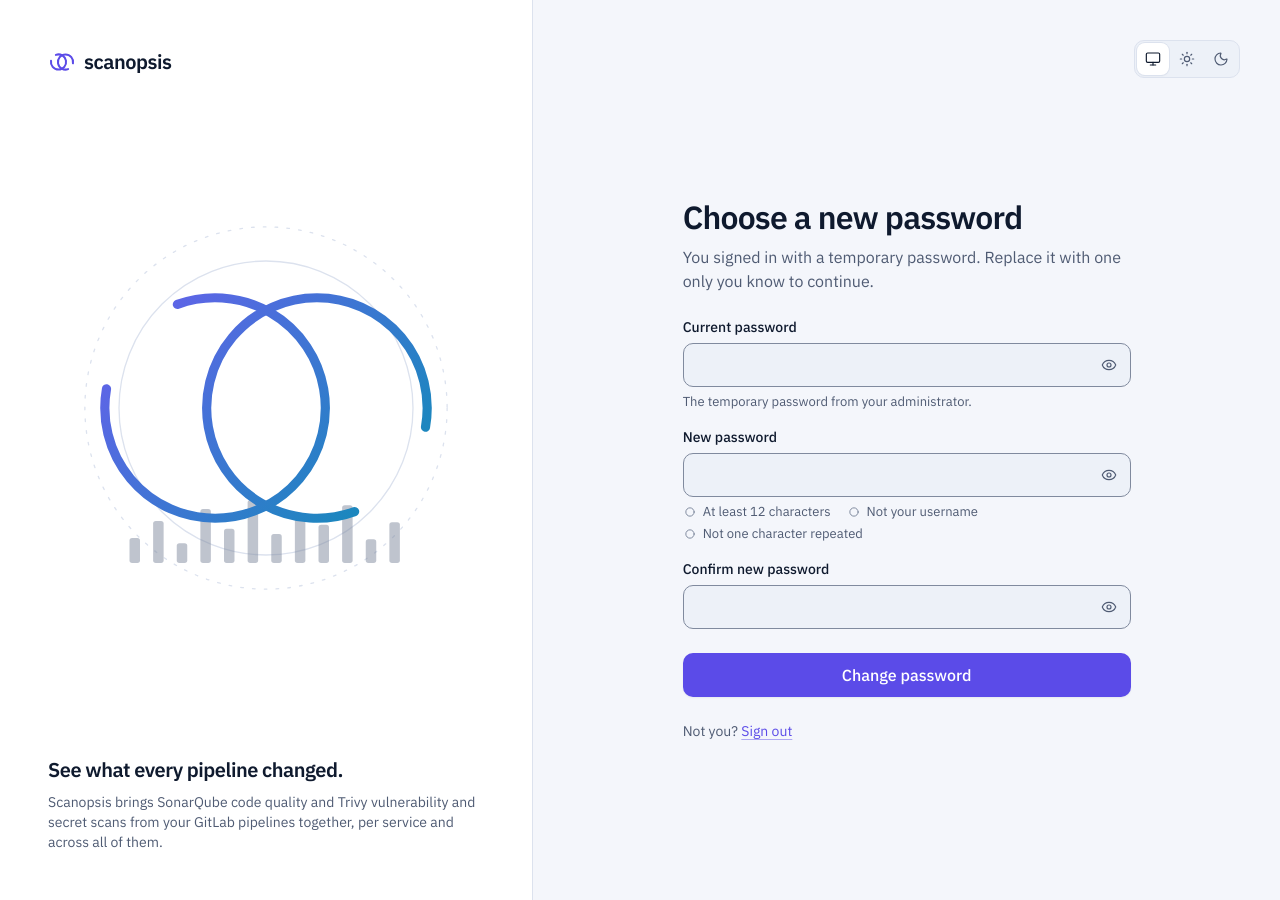
it: password page › shows the server message for a weak password
This screenshot has width=1280, height=900.
expect the heading "Choose a new password" is shown: met, box [683,196,1022,238]
Type "temporary-1" into the password field labelled "Current password" at (907, 365), box [683,343,1131,387]
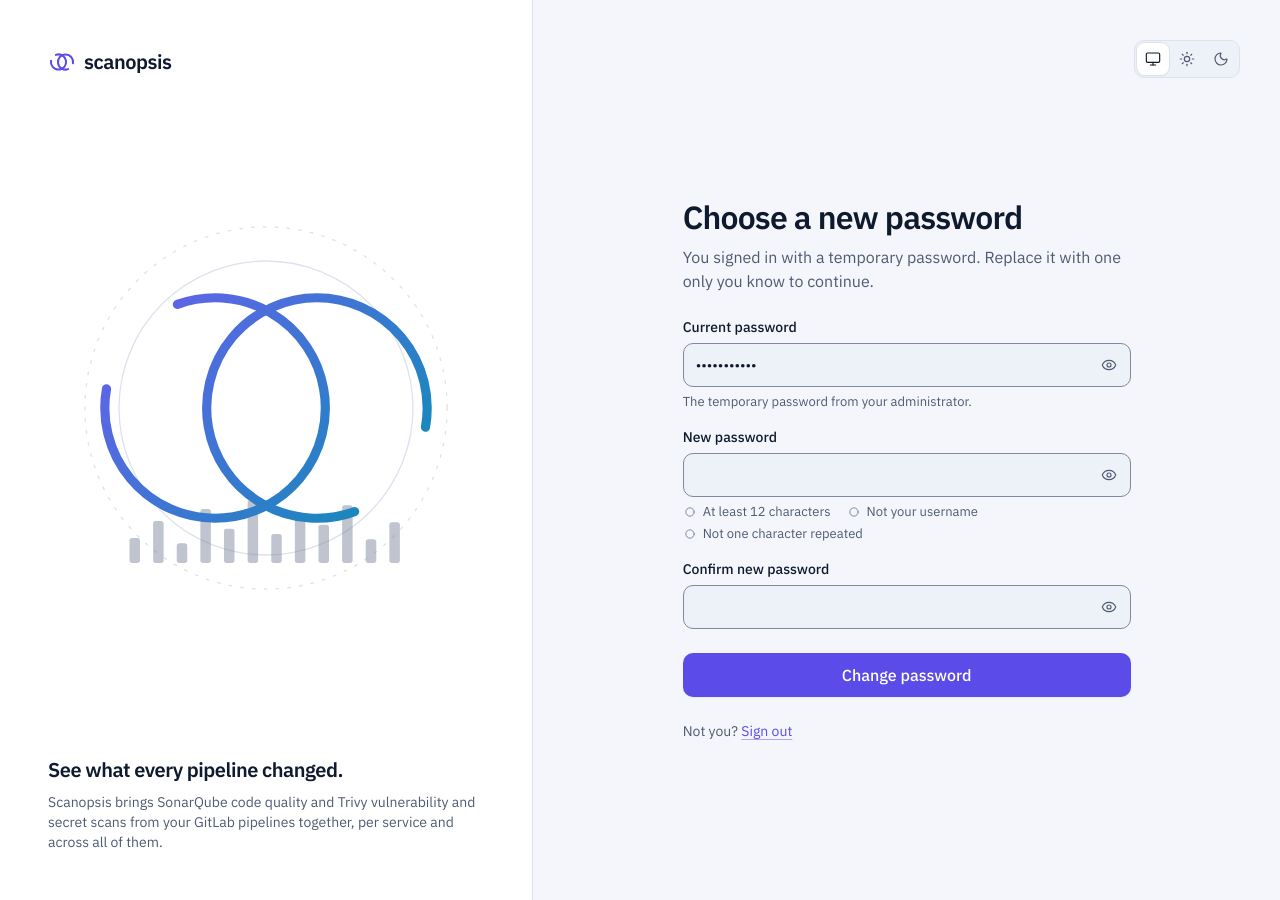
Type "a much longer password" into the password field labelled "New password" at (907, 475), box [683,453,1131,497]
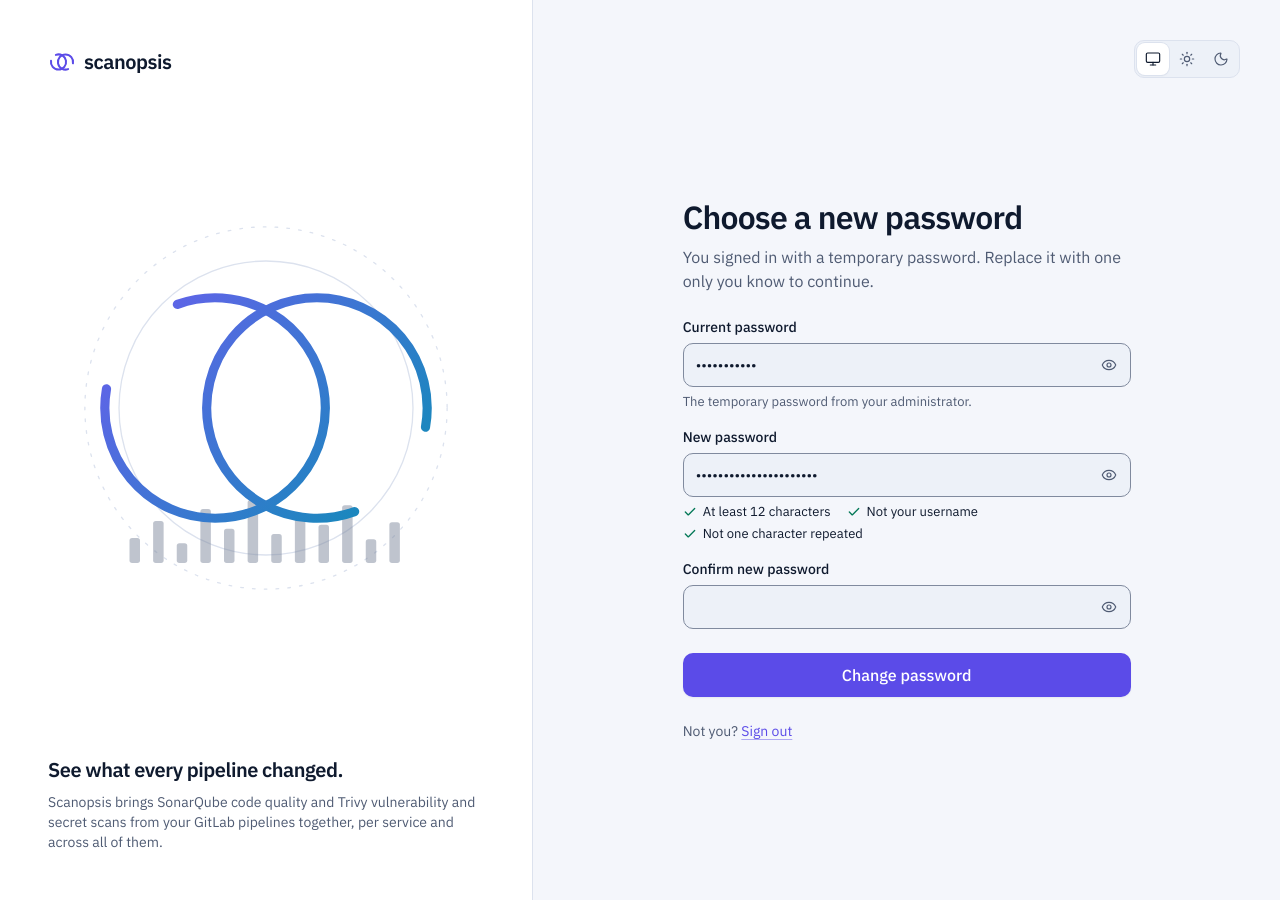
Type "a much longer password" into the password field labelled "Confirm new password" at (907, 607), box [683,585,1131,629]
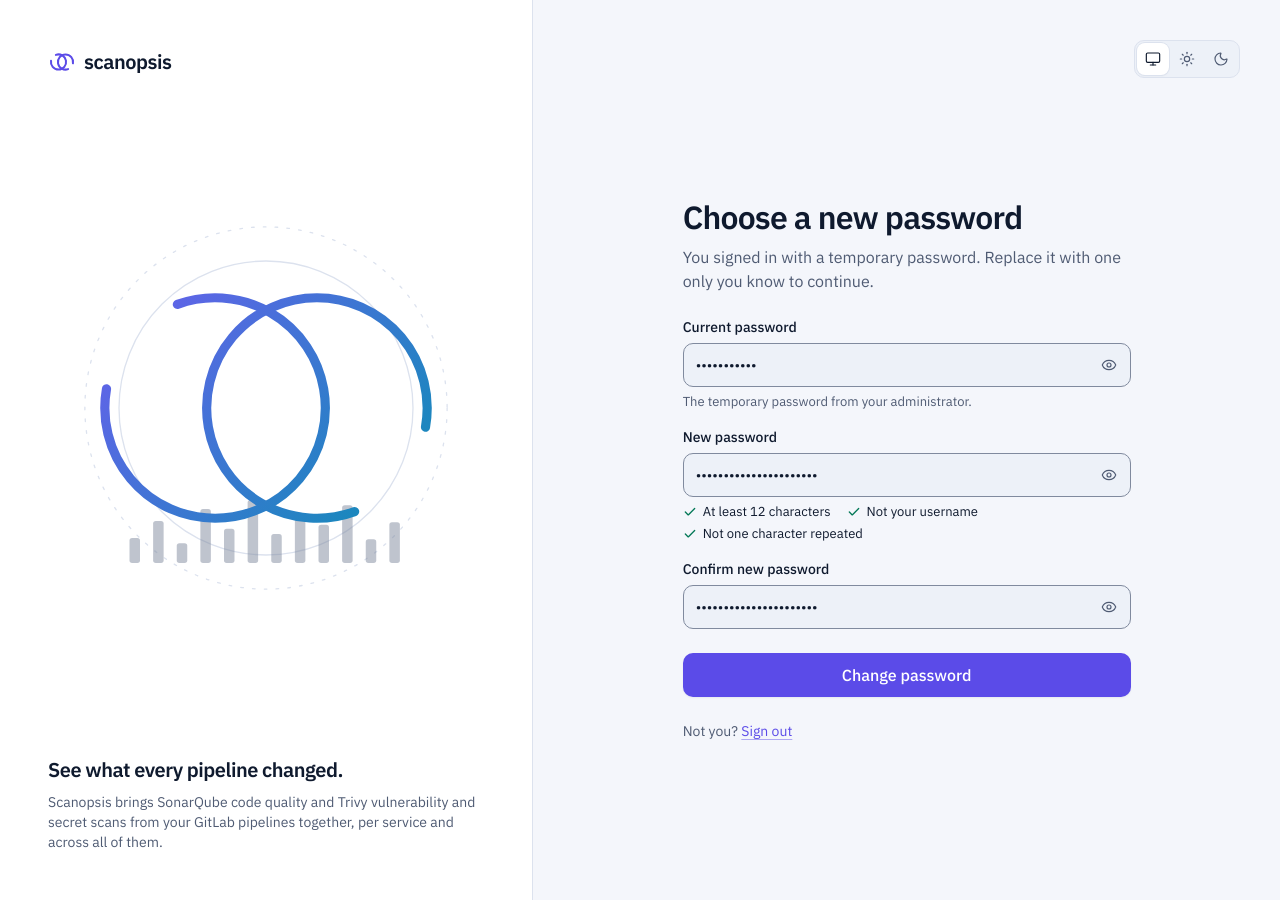
Click the button "Change password" at (907, 675), box [683,653,1131,697]
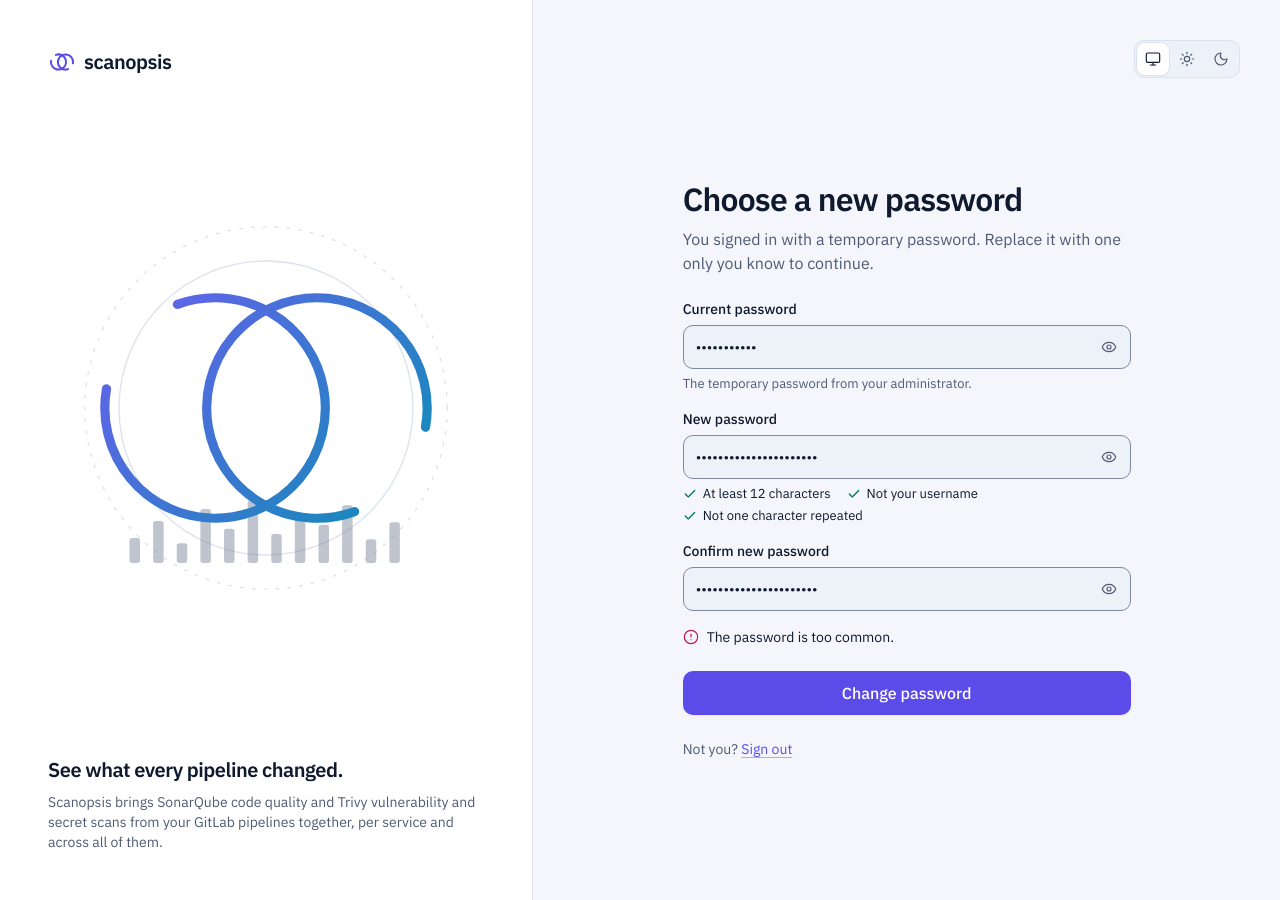
expect the message reads "The password is too common.": met, box [707,628,894,646]
